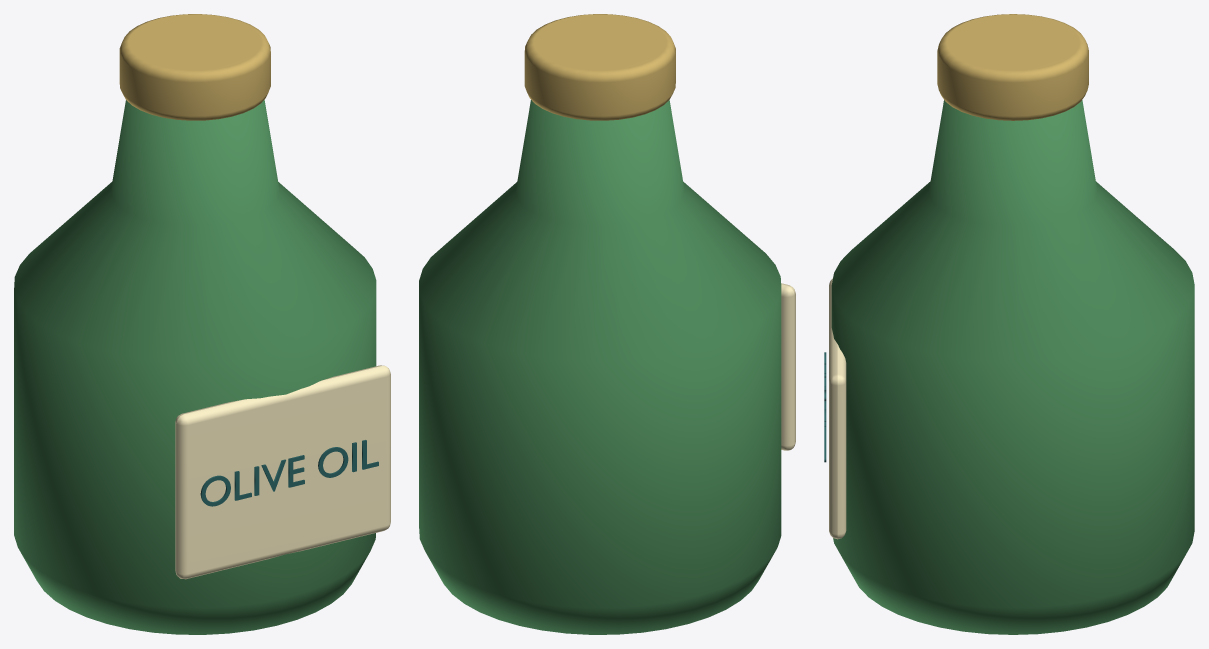
File: olive-oil.glb
3 renders of one model, left to right at view 1: azimuth 30°, elevation 25°; view 2: azimuth 150°, elevation 25°; view 3: azimuth 270°, elevation 25°, orthographic.
Parts seen in each view (by area): view 1: olive-oil_mesh; view 2: olive-oil_mesh; view 3: olive-oil_mesh.
Boxes of the visible parts, box(x1,y1,x2,y2) form: olive-oil_mesh: box(14, 14, 390, 634); olive-oil_mesh: box(419, 14, 795, 634); olive-oil_mesh: box(824, 14, 1194, 634).
Bounding box in the file's own units: 0.14 × 0.2231 × 0.1429.
